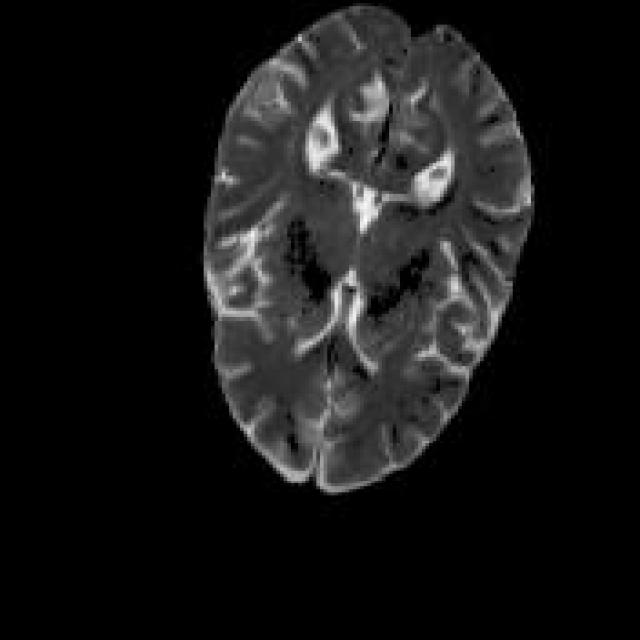parkinson: (200, 0, 534, 495)
